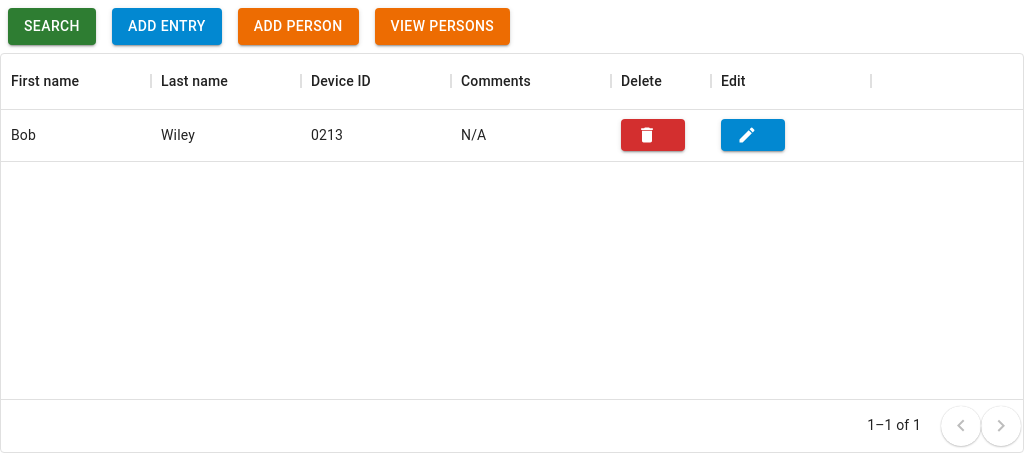
Scenario: should show updated results after an entry is deleted
This screenshot has width=1036, height=470.
expect the text "0213" is shown: met, box left=311, top=125, right=343, bottom=145
Click the button named "Delete button for 23". click: (653, 135)
box: left=621, top=119, right=685, bottom=151
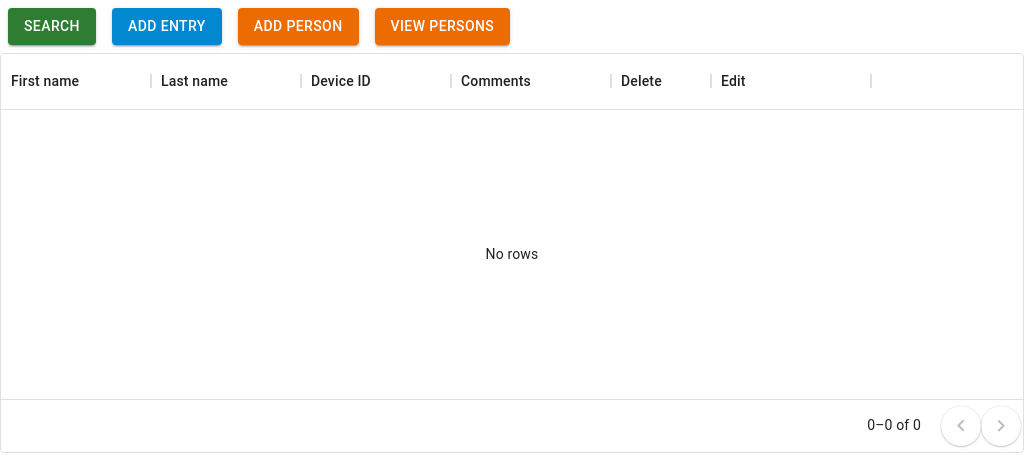
expect the text "0213" is gone: met
